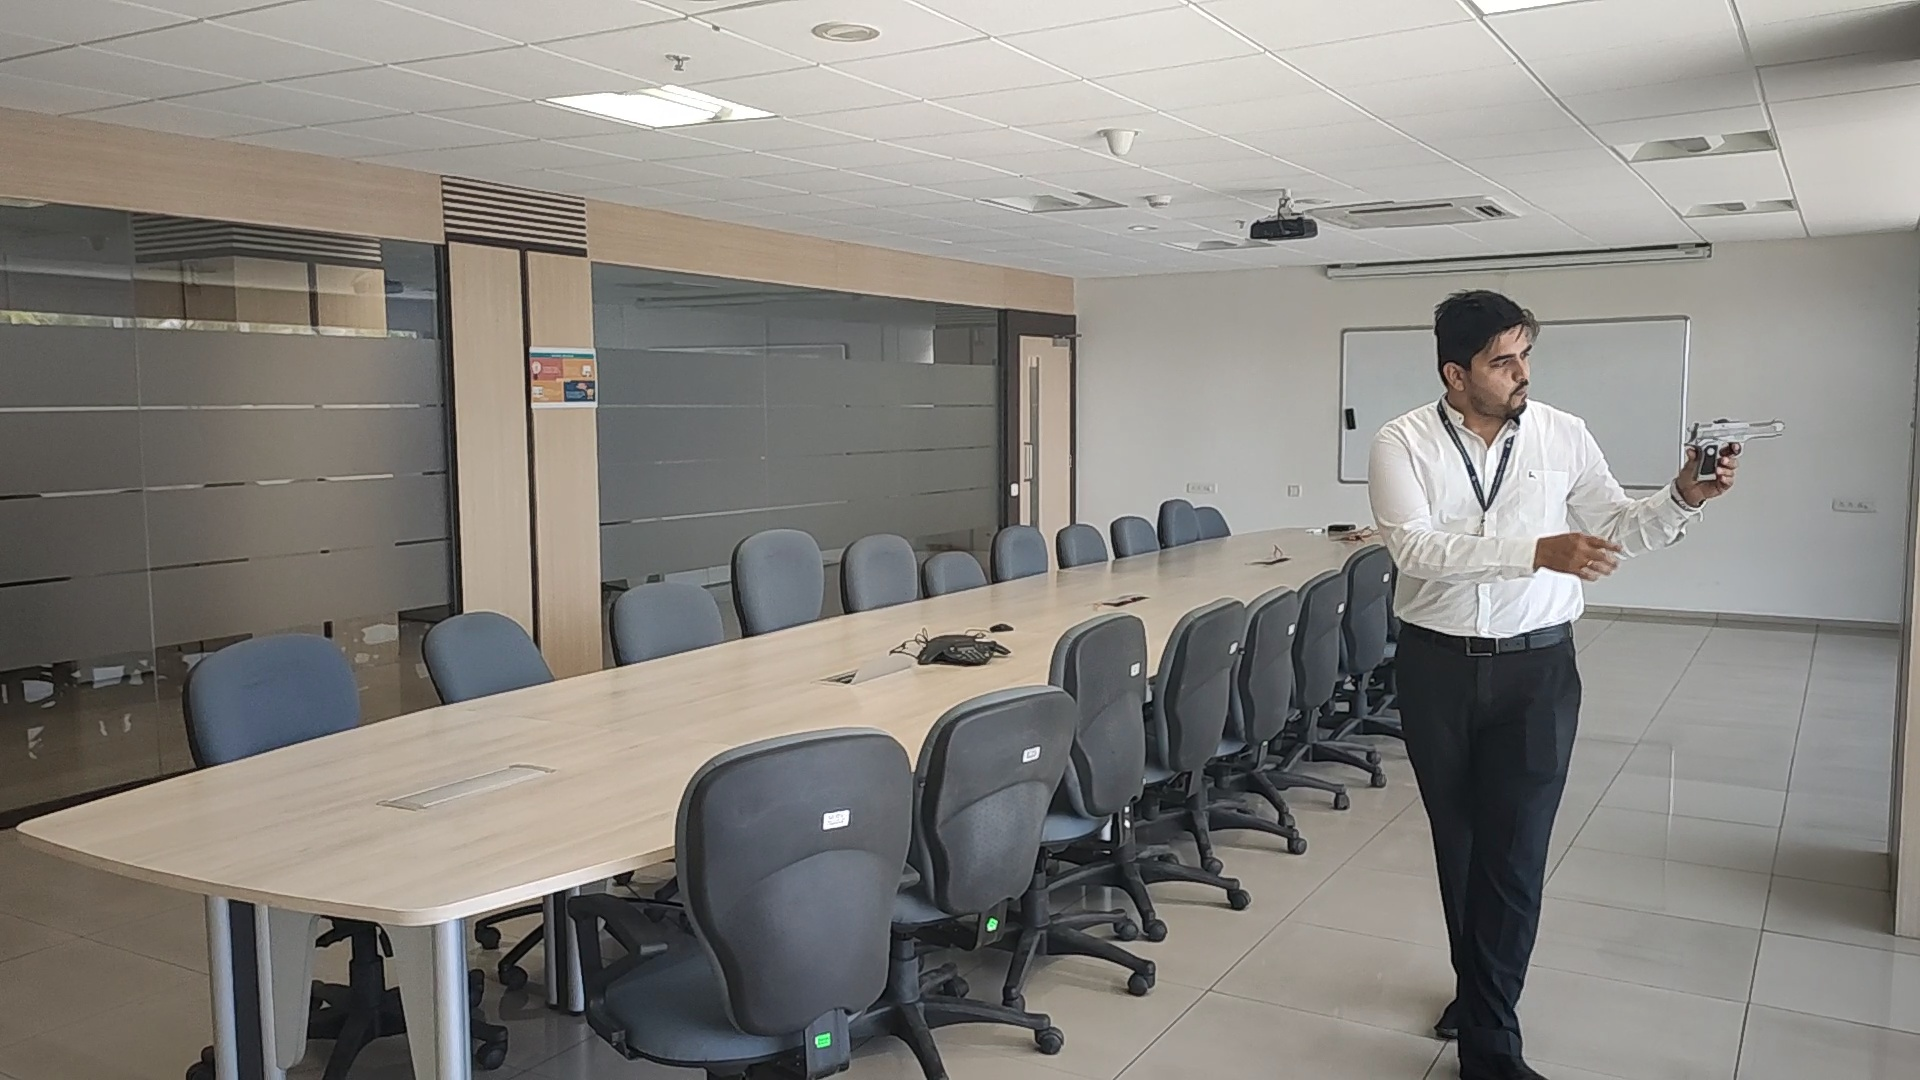gun: (1683, 417, 1787, 448)
